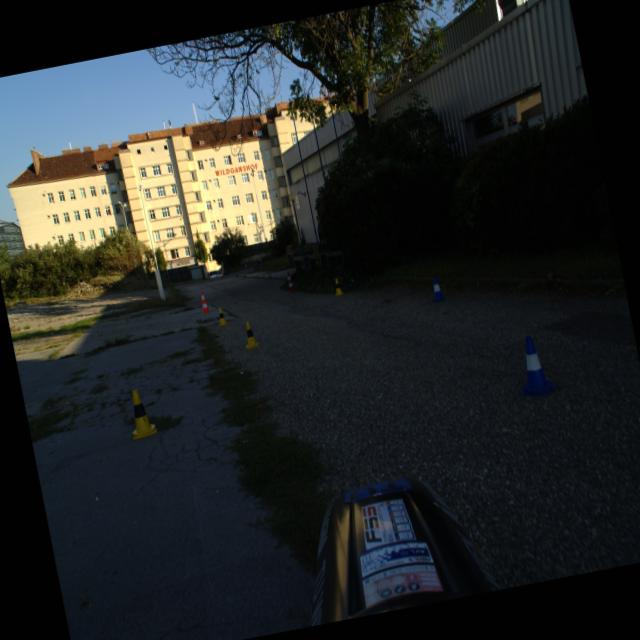blue_cone: (508, 332, 558, 400), (428, 276, 447, 303)
large_orange_cone: (197, 290, 212, 314), (284, 270, 296, 292)
yellow_cone: (124, 387, 158, 440), (240, 320, 260, 350), (215, 306, 229, 326), (332, 278, 344, 296)
